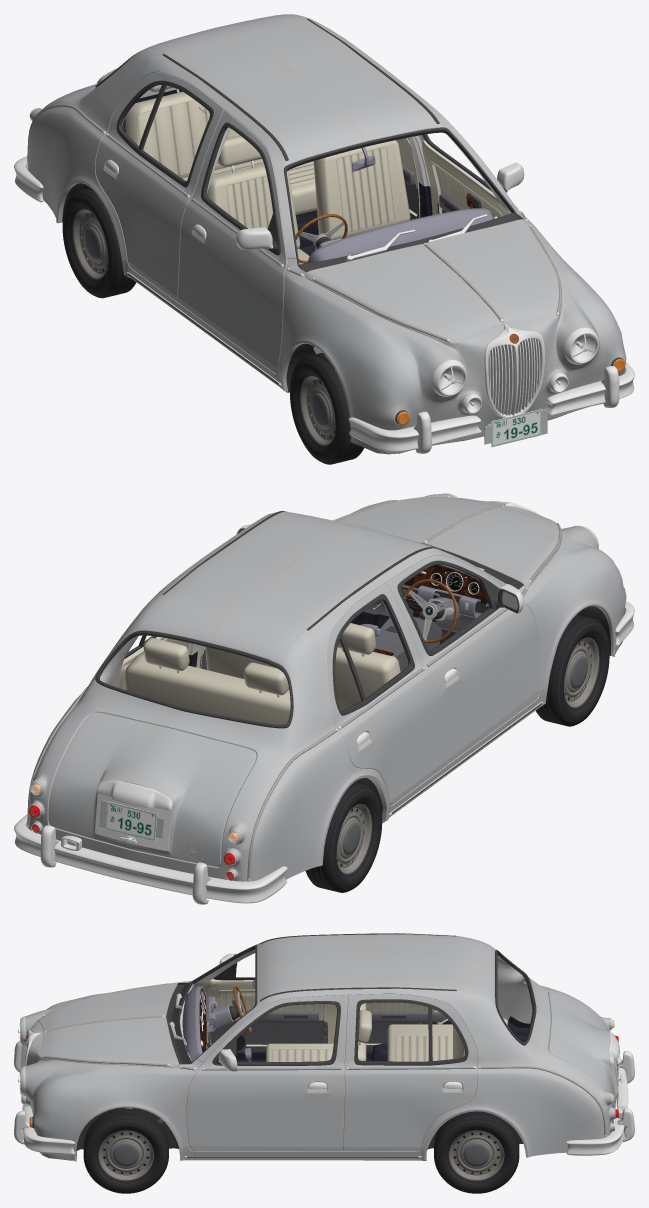
Rendered from viewt_base.fbx.
3 views of the same model, one above another, from view 1: azimuth 30°, elevation 25°; view 2: azimuth 150°, elevation 25°; view 3: azimuth 270°, elevation 25° (orthographic). The views are drawn at different scales.
Visible parts, largest first — view 1: Carpaint, CarpaintDoorFR, Chrome, CarpaintDoorRR, Seat_Passenger, Seat_Rear, Interior, Seat_Driver, BlackPlastic, Tire_FR, Tire_RR, InteriorDoorFL (+11 smaller); view 2: Carpaint, CarpaintDoorFR, Chrome, CarpaintDoorRR, Seat_Rear, Tire_FR, Interior, BlackPlastic, Tire_RR, Seat_Driver, LowerDash, BlackPlasticDoorRR (+8 smaller); view 3: Carpaint, CarpaintDoorFL, CarpaintDoorRL, Interior, Chrome, InteriorDoorFR, Tire_FL, Tire_RL, BlackPlastic, Seat_Rear, RimLR, RimFL (+10 smaller).
Part boxes in pixels (x1,y1,x2,y2): Carpaint: [28, 14, 626, 453]; CarpaintDoorFR: [178, 109, 286, 373]; Chrome: [14, 68, 634, 453]; CarpaintDoorRR: [95, 72, 224, 301]; Seat_Passenger: [313, 140, 410, 240]; Seat_Rear: [125, 85, 316, 214]; Interior: [122, 87, 511, 263]; Seat_Driver: [207, 135, 309, 264]; BlackPlastic: [95, 18, 623, 424]; Tire_FR: [290, 352, 364, 464]; Tire_RR: [62, 187, 136, 298]; InteriorDoorFL: [420, 135, 508, 218]; Carpaint: [28, 494, 626, 881]; CarpaintDoorFR: [386, 555, 539, 769]; Chrome: [14, 496, 634, 904]; CarpaintDoorRR: [326, 582, 439, 804]; Seat_Rear: [125, 638, 290, 724]; Tire_FR: [535, 614, 609, 726]; Interior: [100, 564, 488, 712]; BlackPlastic: [95, 511, 541, 813]; Tire_RR: [305, 782, 382, 892]; Seat_Driver: [335, 623, 400, 710]; LowerDash: [364, 584, 489, 671]; BlackPlasticDoorRR: [332, 594, 414, 715]; Carpaint: [23, 933, 617, 1161]; CarpaintDoorFL: [186, 995, 348, 1151]; CarpaintDoorRL: [343, 994, 477, 1151]; Interior: [180, 949, 532, 1061]; Chrome: [14, 983, 634, 1157]; InteriorDoorFR: [202, 979, 336, 1051]; Tire_FL: [83, 1108, 168, 1193]; Tire_RL: [434, 1111, 519, 1193]; BlackPlastic: [32, 933, 536, 1157]; Seat_Rear: [387, 1024, 464, 1061]; RimLR: [449, 1130, 504, 1180]; RimFL: [98, 1130, 153, 1180].
Bounding box in the file's own units: 1.71 × 1.39 × 4.18.
33 materials, 17 textured.
